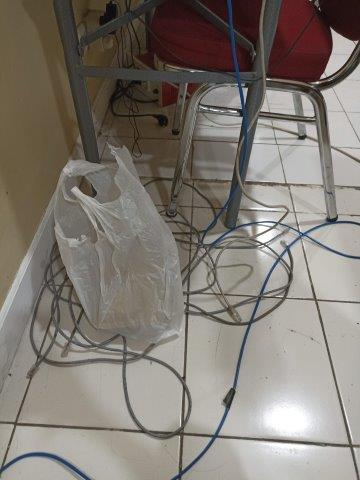plastik: (54, 148, 184, 335)
